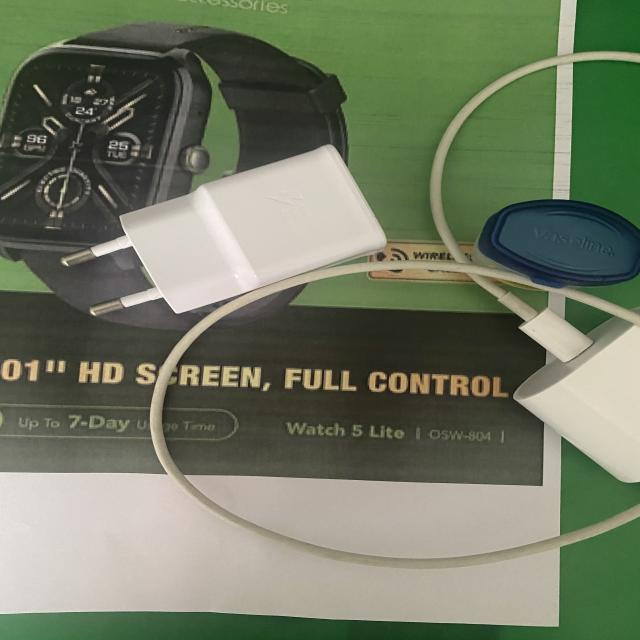Watch 5 Lite OSW-804: (281, 415, 513, 448)
